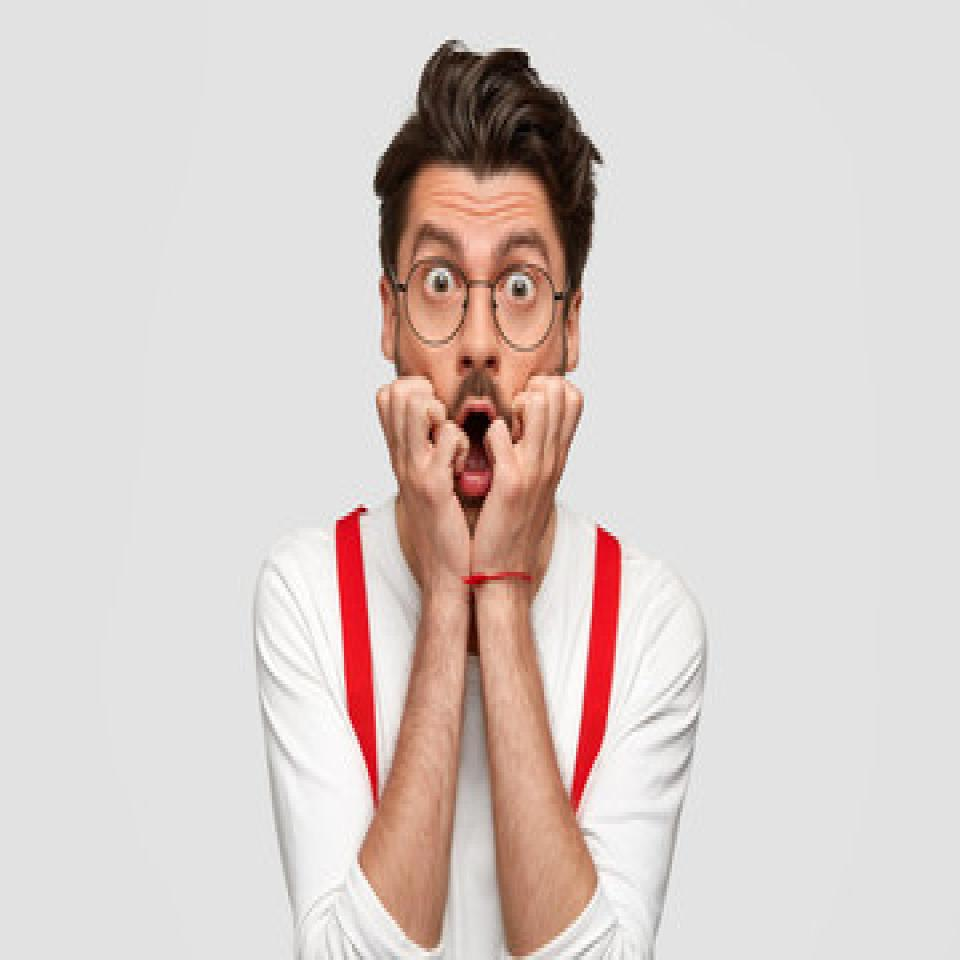Scared: (385, 180, 574, 582)
